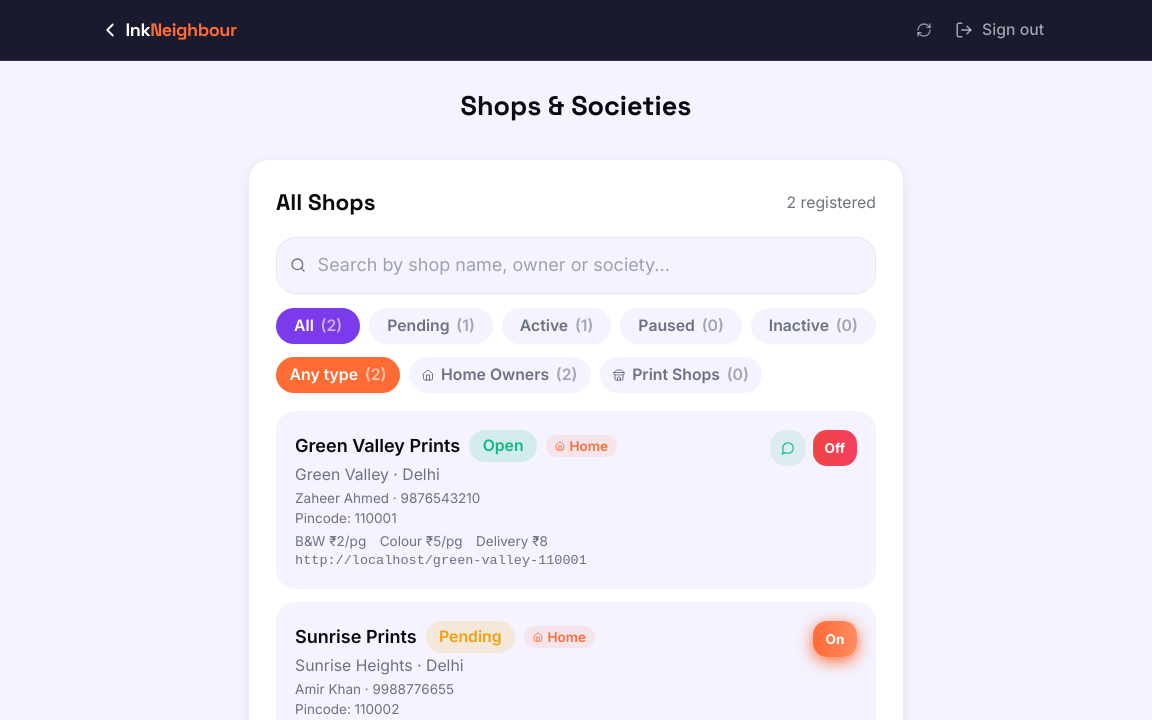
it: AdminDirectory — filtering › shows only active shops when Active filter is active
Expected: the text "Green Valley Prints" is shown, x1=295 y1=432 x2=460 y2=460
Click the button "Active(1)" at [557, 326], box x1=502 y1=308 x2=611 y2=344
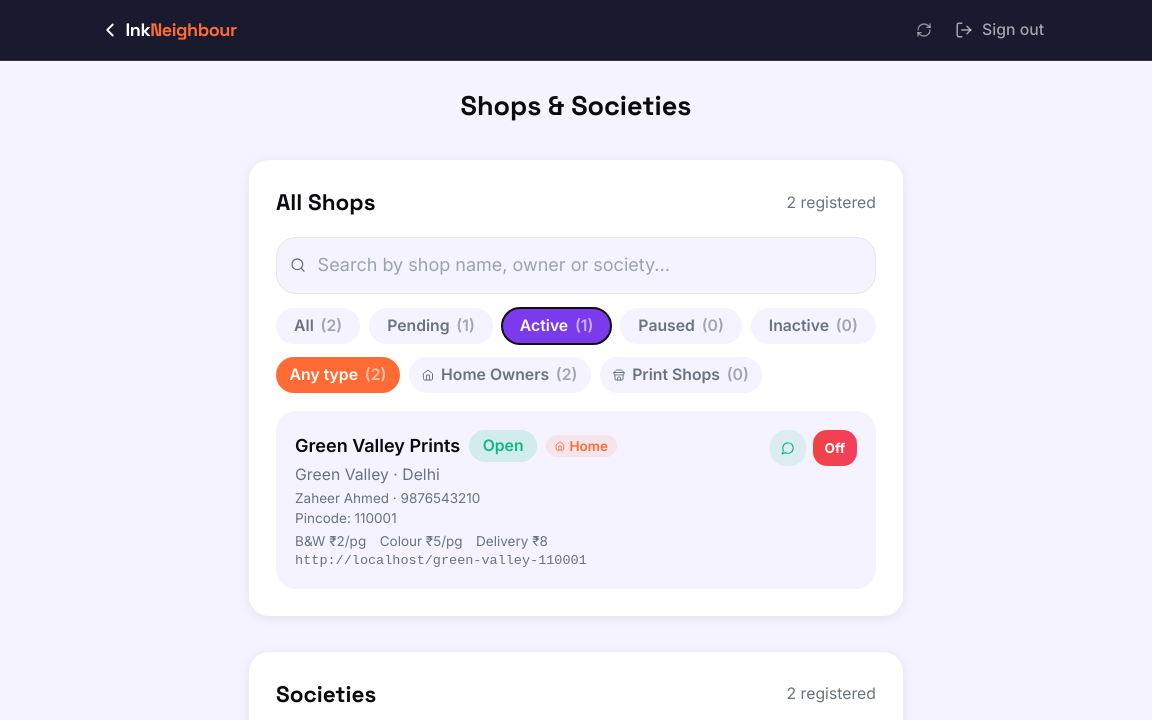
Expected: the text "Green Valley Prints" is shown, x1=295 y1=432 x2=460 y2=460
Expected: the text "Sunrise Prints" is gone
